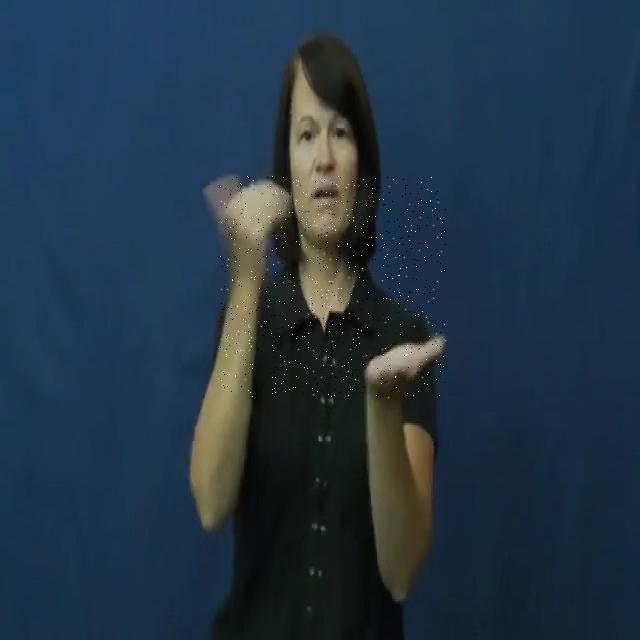refill: (220, 176, 446, 398)
